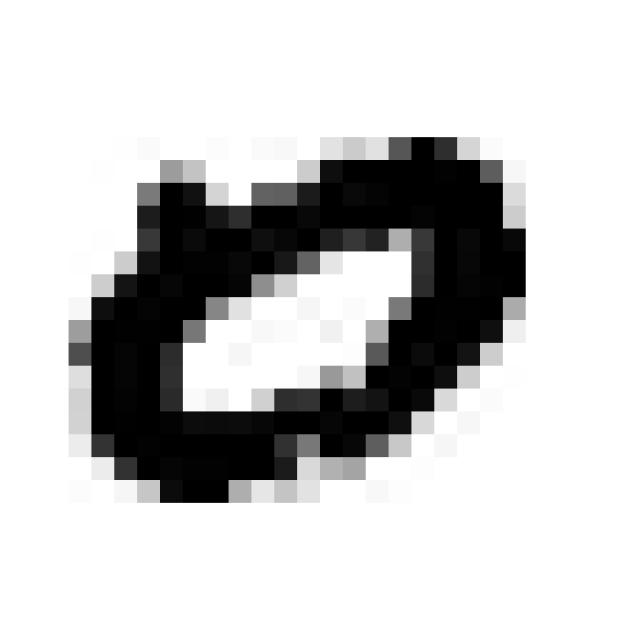5 -five-: (53, 116, 541, 518)
